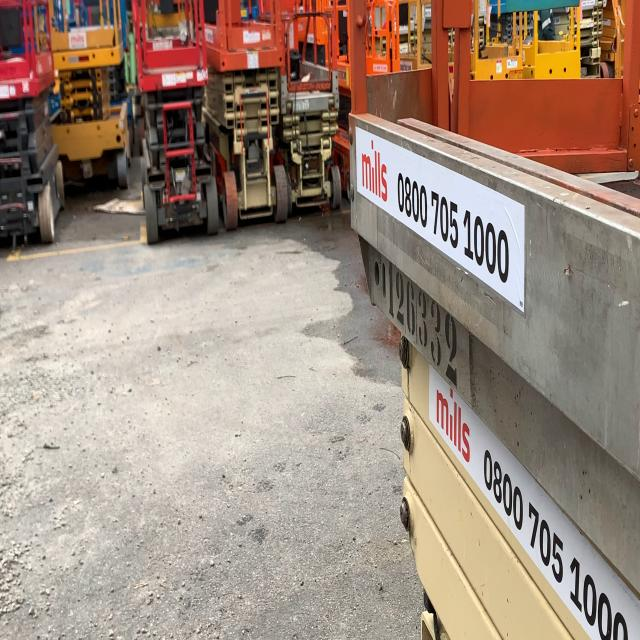Adesivo Longo: (354, 123, 525, 319)
